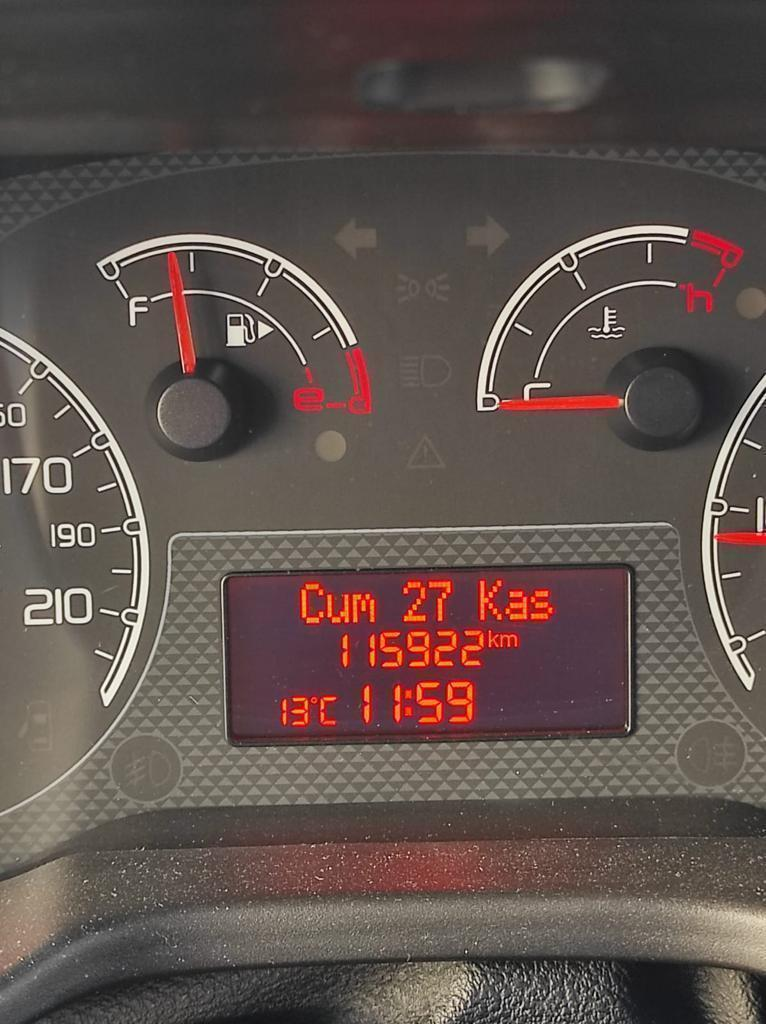1: (392, 683, 401, 723), (361, 684, 370, 724), (367, 632, 376, 668), (340, 632, 349, 668), (279, 697, 288, 727)
2: (402, 580, 427, 623), (460, 629, 485, 666), (432, 630, 457, 667)
3: (289, 696, 309, 726)
5: (414, 681, 443, 723), (378, 631, 404, 668)
7: (428, 580, 451, 622)
9: (445, 679, 474, 723), (405, 630, 430, 668)
X: (477, 578, 503, 621), (299, 582, 324, 624), (529, 589, 554, 621), (351, 592, 375, 624), (504, 589, 527, 621), (326, 593, 349, 625), (317, 695, 338, 726), (403, 688, 413, 717), (500, 633, 517, 647), (487, 630, 499, 648)
odometer: (219, 562, 634, 747)
